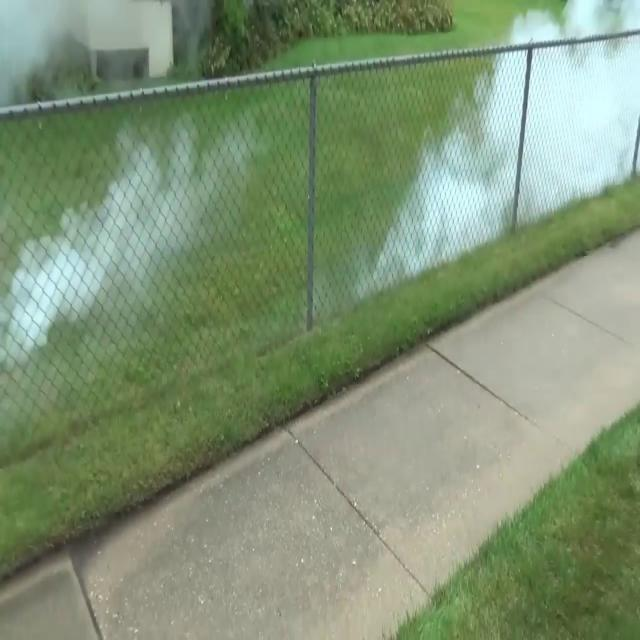Smoke: (372, 1, 640, 290), (5, 112, 233, 355)
